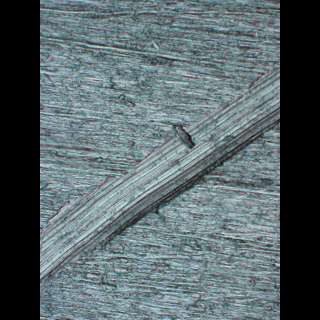d: (40, 60, 279, 291)
